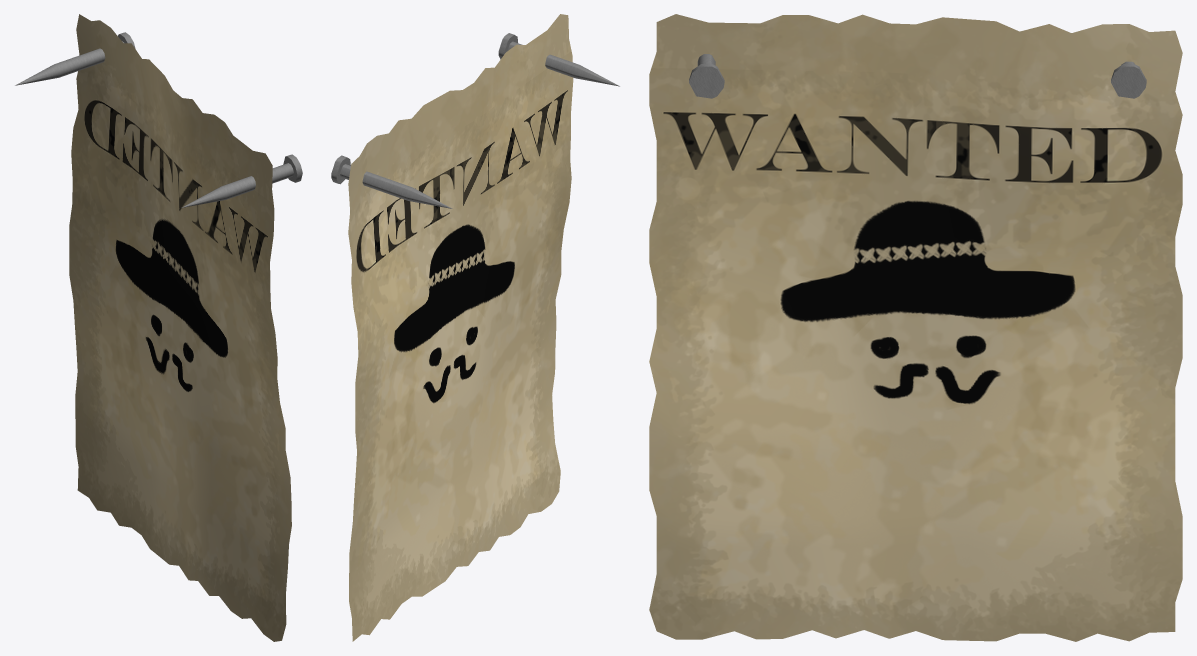
The model's file is target_poster.obj.
3 renders of one model, left to right at view 1: azimuth 30°, elevation 25°; view 2: azimuth 150°, elevation 25°; view 3: azimuth 270°, elevation 25°, orthographic. The views are drawn at different scales.
Visible parts, largest first — view 1: obj1; view 2: obj1; view 3: obj1.
Part boxes in pixels (x1=…): obj1: x1=15, y1=14, x2=302, y2=641; obj1: x1=331, y1=14, x2=619, y2=641; obj1: x1=649, y1=14, x2=1182, y2=641.
Size of the model in its own units: 3.74 by 15.13 by 11.78.
Materials: 1 (1 with a texture image).
